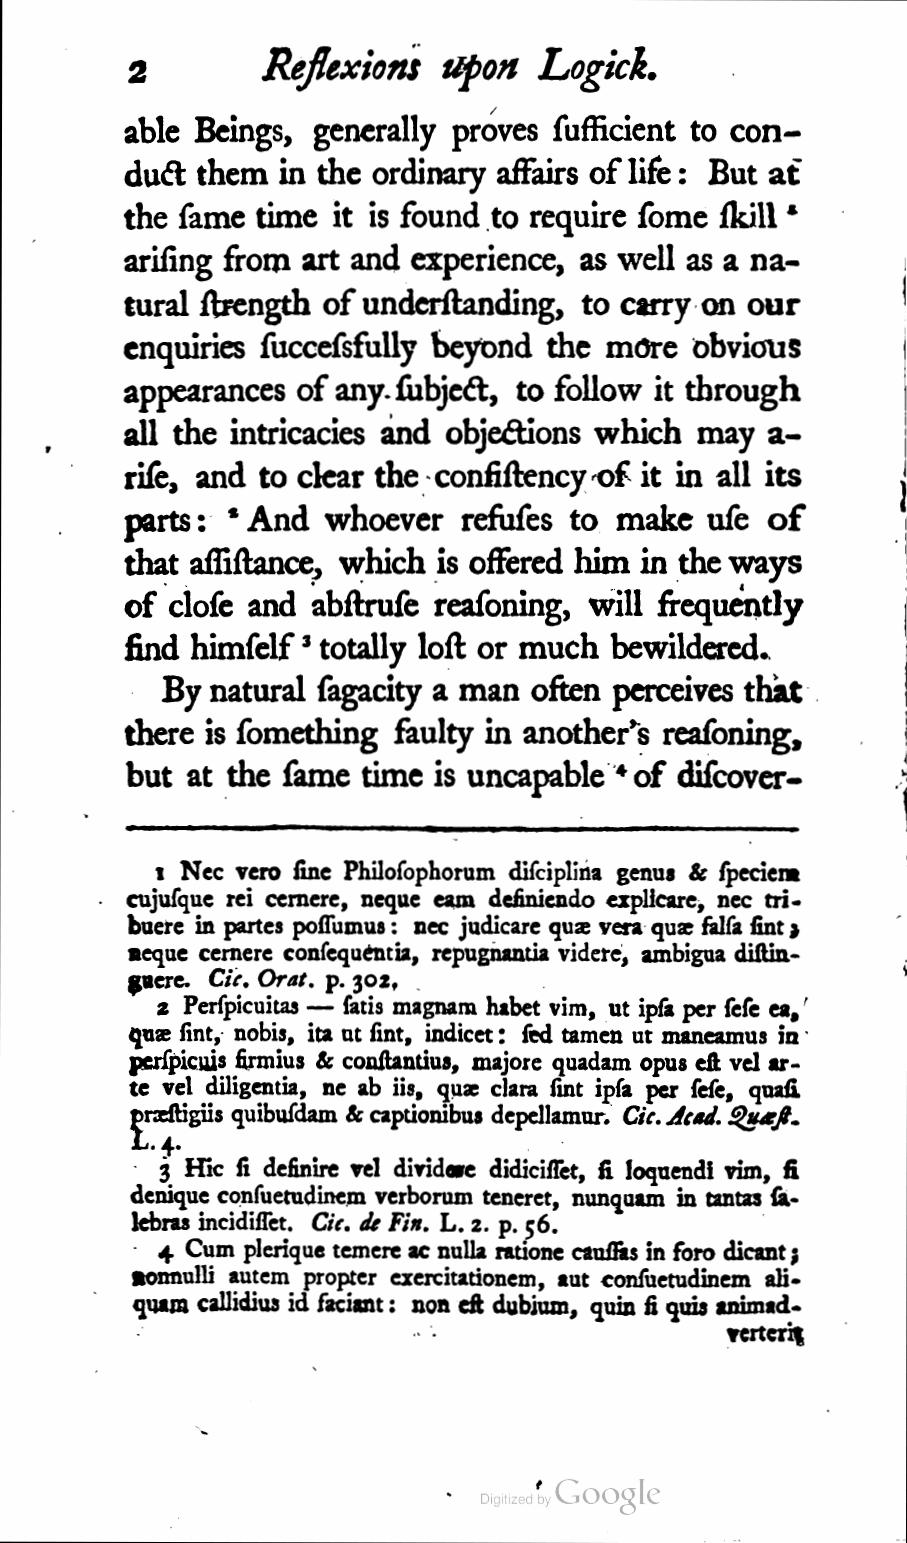bottom_p: (119, 107, 811, 671)
catchword: (723, 1319, 809, 1344)
footnotes: (120, 850, 806, 1324)
header: (259, 40, 660, 96)
page_num: (120, 52, 154, 93)
top_p: (117, 673, 810, 800)
